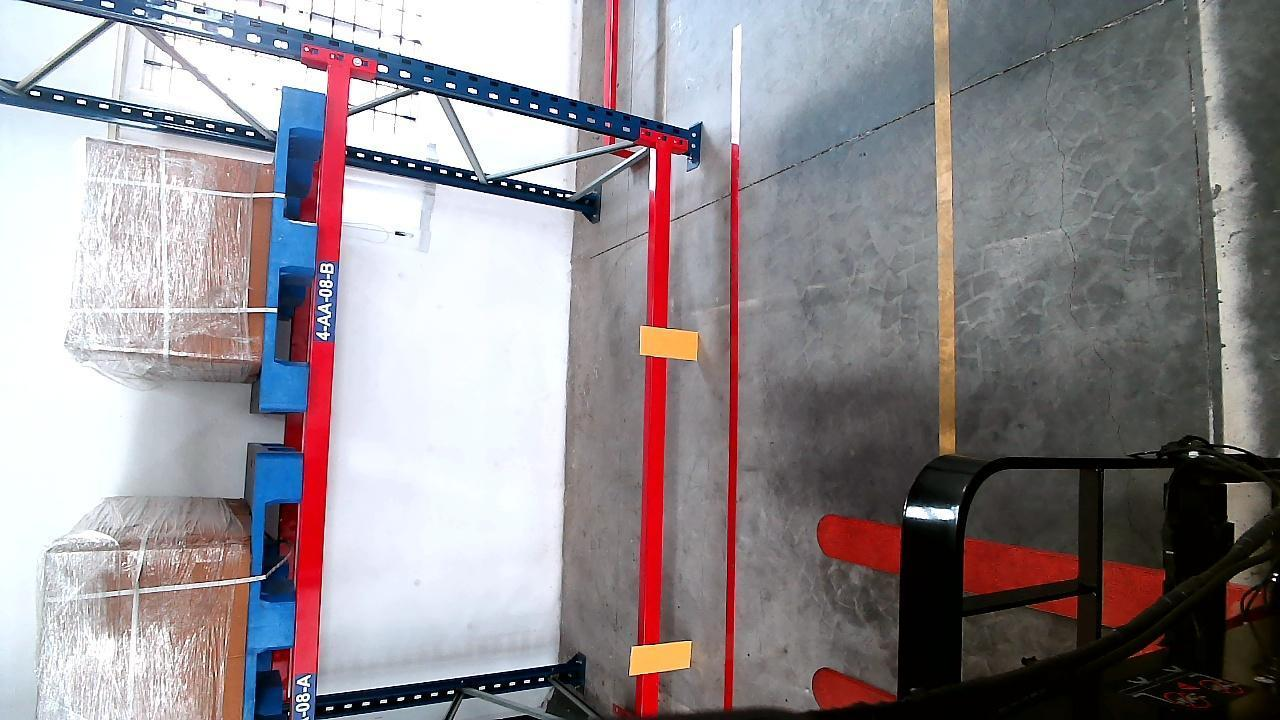h_rack: (292, 62, 347, 720), (641, 146, 672, 720)
orange_strip: (630, 639, 693, 674), (642, 327, 698, 361)
red_line: (721, 25, 743, 707)
small_pallet: (264, 87, 326, 412), (246, 454, 301, 720)
